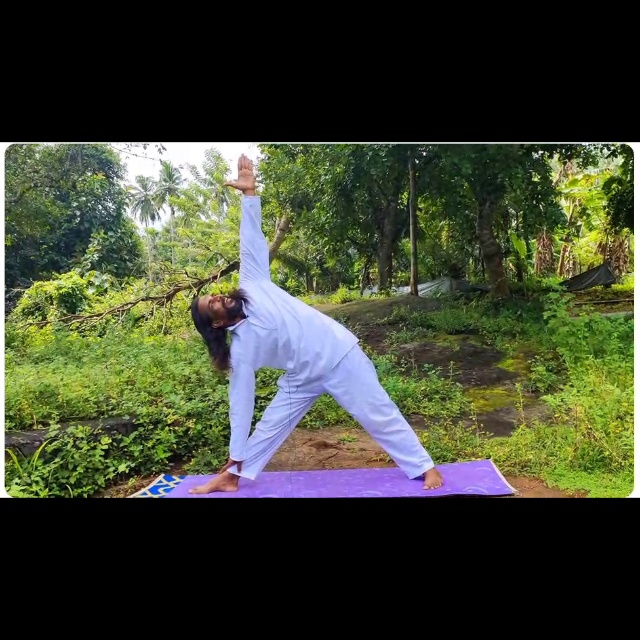Triangle_Pose: (183, 152, 446, 494)
